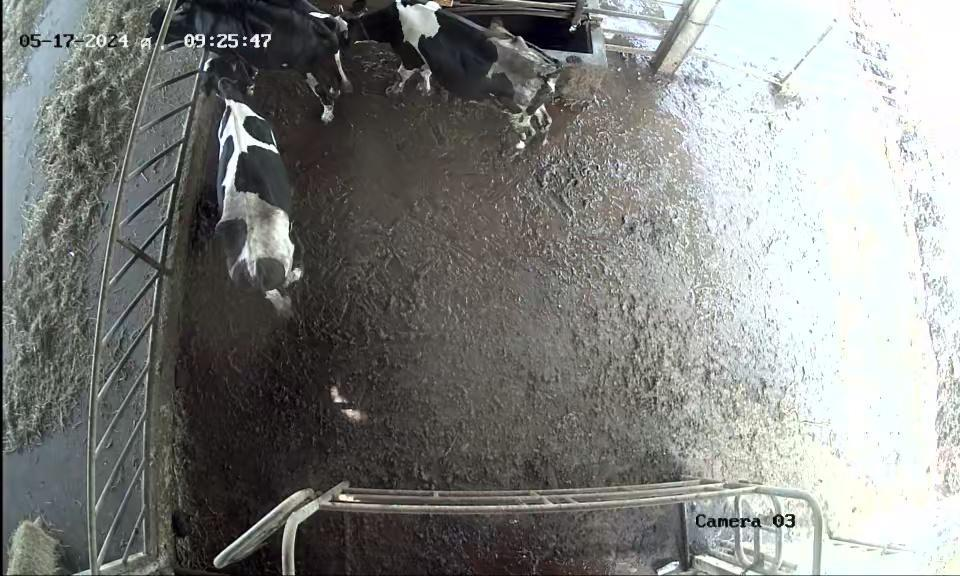eat: (123, 1, 245, 58)
stand: (192, 52, 312, 312), (344, 0, 557, 145)
